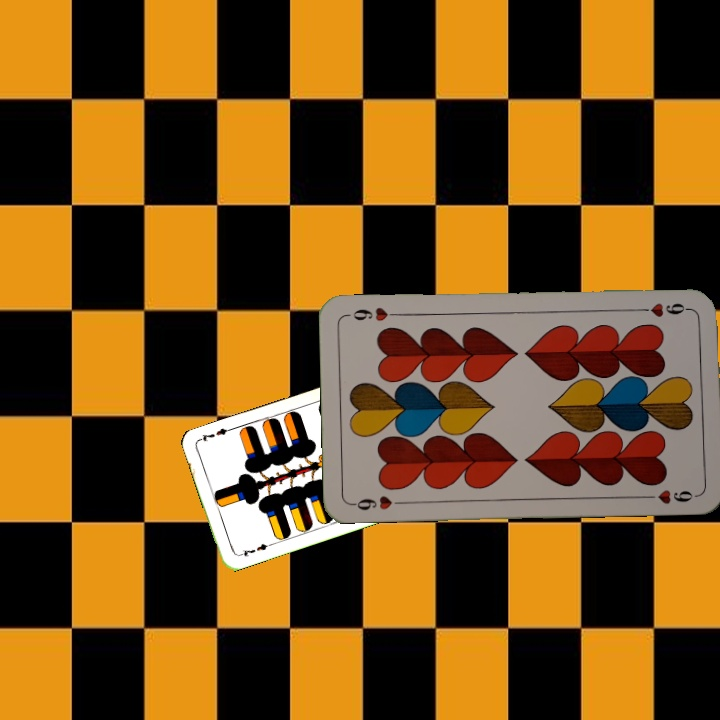E7: (234, 539, 273, 559)
H9: (348, 492, 407, 513), (633, 299, 692, 319)
